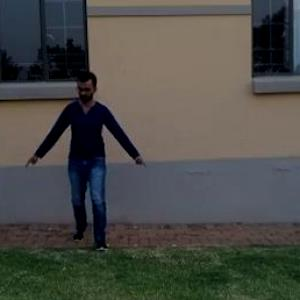land: (23, 70, 149, 259)
